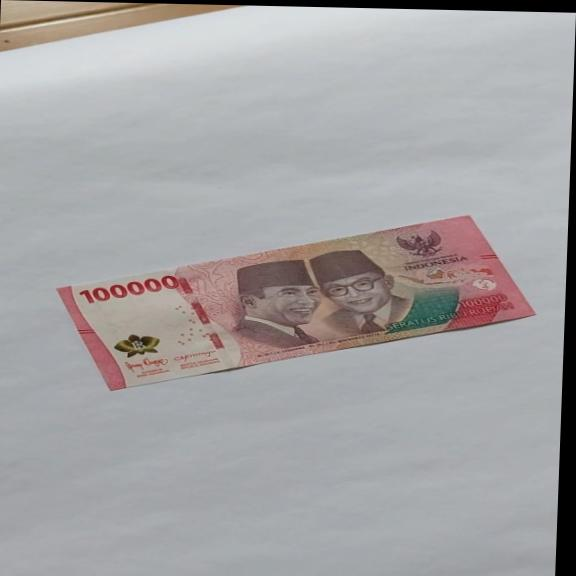Kertas: (52, 205, 541, 401), (76, 272, 181, 306)
